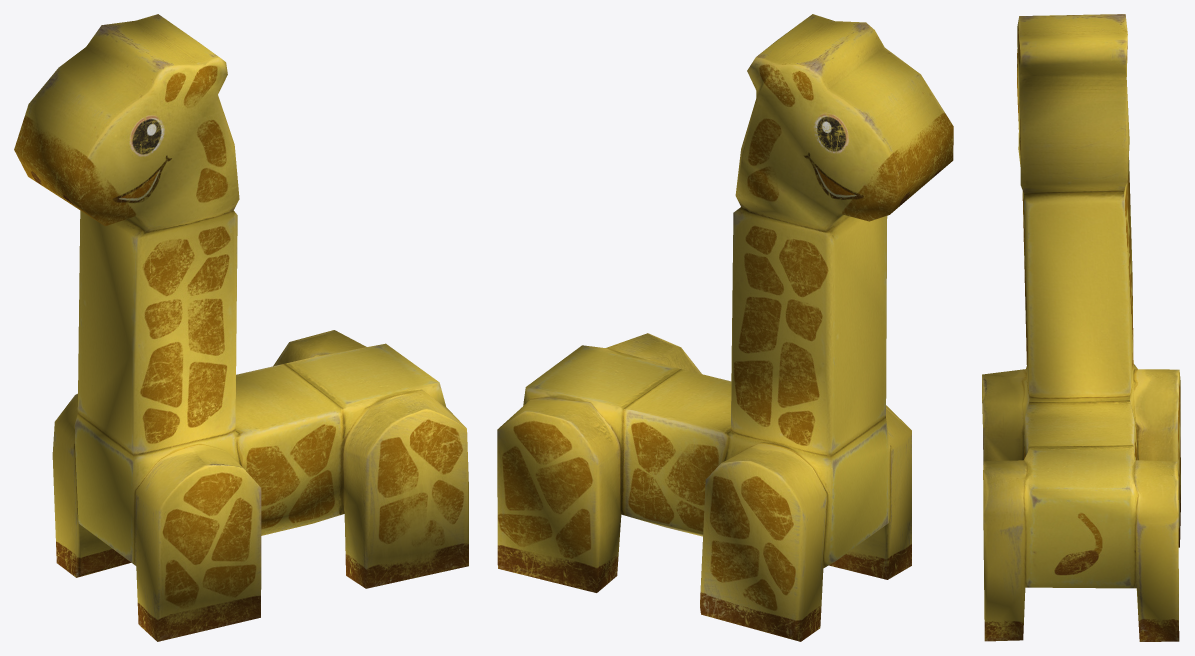
File: toy_giraffe_ujpheaova_low.glb
3 renders of one model, left to right at view 1: azimuth 30°, elevation 25°; view 2: azimuth 150°, elevation 25°; view 3: azimuth 270°, elevation 25°, orthographic. The views are drawn at different scales.
Parts seen in each view (by area): view 1: ujpheaova_LOD0_TIER3_000; view 2: ujpheaova_LOD0_TIER3_000; view 3: ujpheaova_LOD0_TIER3_000.
Boxes of the visible parts, bbox=[...] form: ujpheaova_LOD0_TIER3_000: bbox=[14, 14, 468, 641]; ujpheaova_LOD0_TIER3_000: bbox=[497, 14, 953, 641]; ujpheaova_LOD0_TIER3_000: bbox=[982, 14, 1180, 641].
Size of the model in its own units: 0.1031 by 0.1445 by 0.0519.
1 material, 1 textured.
